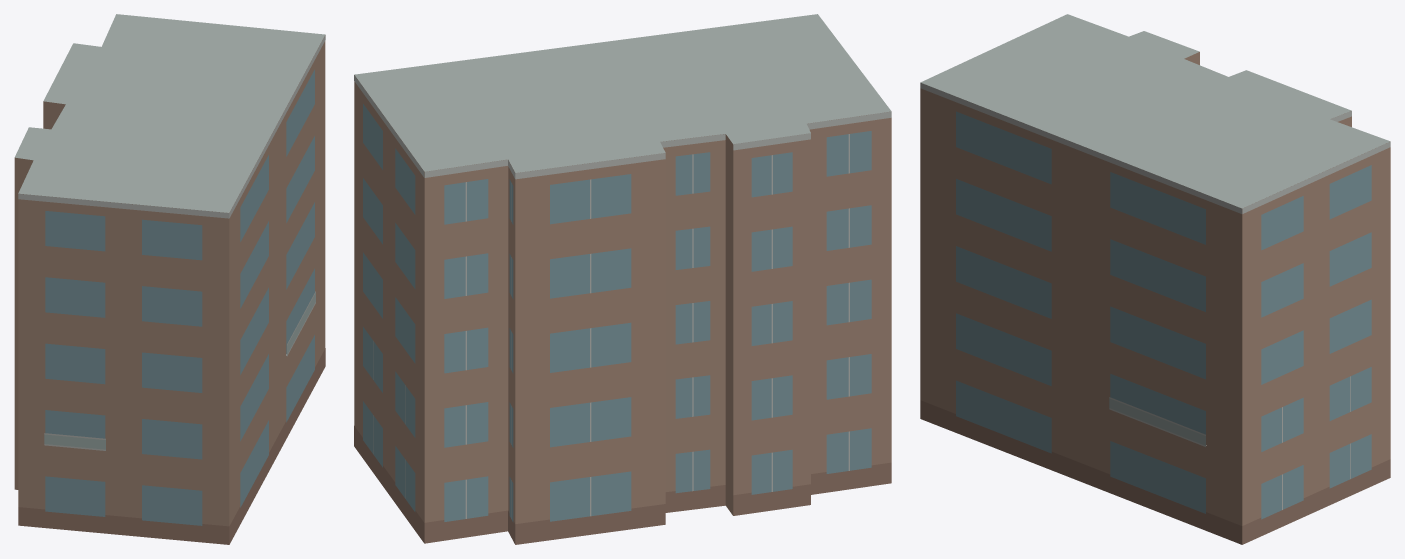
The model's file is survey-upis-32883318.glb.
3 views of the same model, side by side, from view 1: azimuth 30°, elevation 25°; view 2: azimuth 150°, elevation 25°; view 3: azimuth 270°, elevation 25° (orthographic). The views are drawn at different scales.
Visible parts, largest first — view 1: survey-upis-32883318.tmp; view 2: survey-upis-32883318.tmp; view 3: survey-upis-32883318.tmp.
Boxes of the visible parts, box(x1,y1,x2,y2) form: survey-upis-32883318.tmp: box(14, 14, 325, 544); survey-upis-32883318.tmp: box(354, 14, 891, 544); survey-upis-32883318.tmp: box(920, 14, 1390, 544).
Size of the model in its own units: 17.87 by 14.4 by 18.26.
